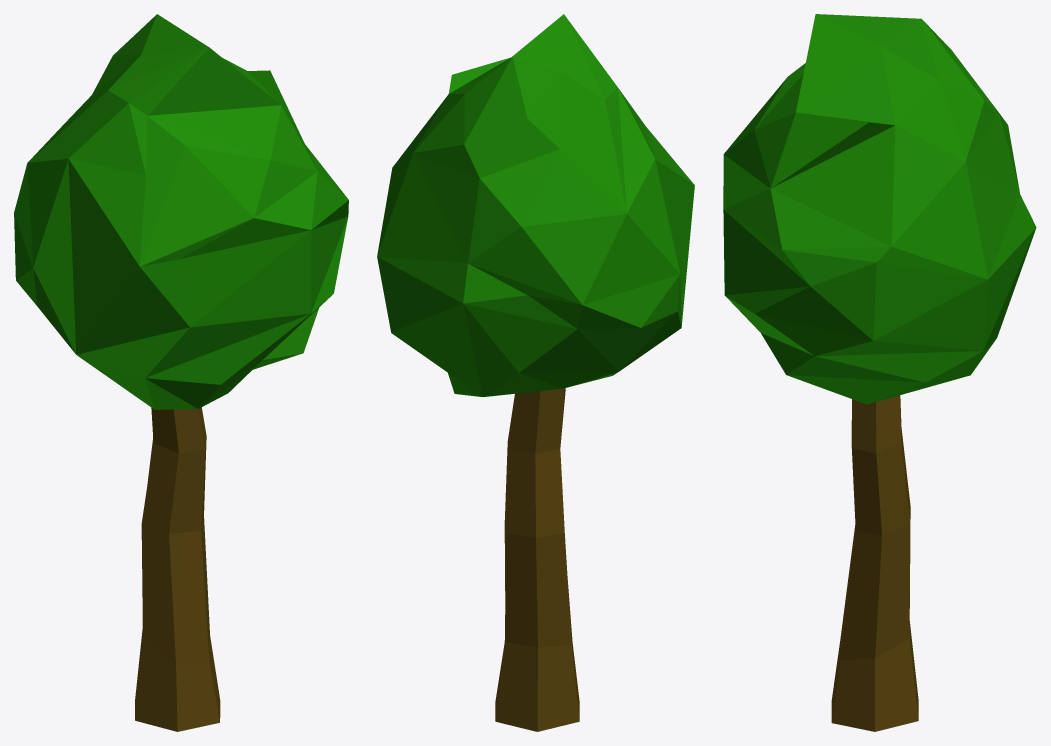
Rendered from SM_Tree2_LOD0.fbx.
3 renders of one model, left to right at view 1: azimuth 30°, elevation 25°; view 2: azimuth 150°, elevation 25°; view 3: azimuth 270°, elevation 25°, orthographic. The views are drawn at different scales.
Parts seen in each view (by area): view 1: SM_Tre2_LOD0; view 2: SM_Tre2_LOD0; view 3: SM_Tre2_LOD0.
Boxes of the visible parts, x1,y1,x2,y2 form: SM_Tre2_LOD0: (14,14,348,731); SM_Tre2_LOD0: (377,14,694,731); SM_Tre2_LOD0: (723,14,1036,731).
Bounding box in the file's own units: 7.35 × 16.64 × 6.75.
